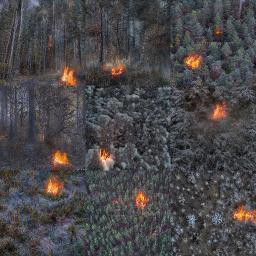Small fire: (49, 154, 68, 200), (57, 62, 74, 87), (183, 58, 197, 71)
